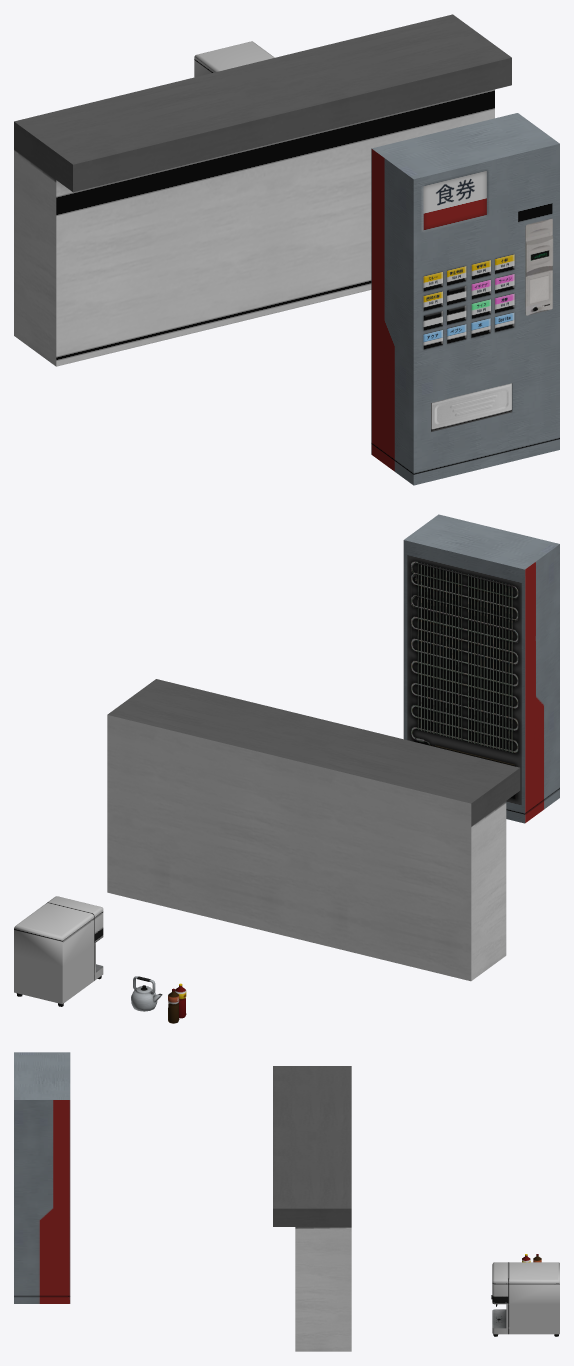
Rendered from prop_sch_canteen_furniture_1.fbx.
The picture shows the model from 3 angles, top to bottom: view 1: azimuth 30°, elevation 25°; view 2: azimuth 150°, elevation 25°; view 3: azimuth 270°, elevation 25°; orthographic projection. The views are drawn at different scales.
Visible parts, largest first — view 1: prop_sch_furniture_cn1_counter, prop_sch_furniture_cn1_vending, prop_sch_furniture_cn1_coffeem; view 2: prop_sch_furniture_cn1_counter, prop_sch_furniture_cn1_vending, prop_sch_furniture_cn1_coffeem, prop_sch_furniture_cn1_teko; view 3: prop_sch_furniture_cn1_counter, prop_sch_furniture_cn1_vending, prop_sch_furniture_cn1_coffeem.
Boxes of the visible parts, box(x1,y1,x2,y2) form: prop_sch_furniture_cn1_counter: box(14, 14, 511, 366); prop_sch_furniture_cn1_vending: box(371, 113, 559, 485); prop_sch_furniture_cn1_coffeem: box(194, 41, 274, 77); prop_sch_furniture_cn1_counter: box(107, 679, 520, 981); prop_sch_furniture_cn1_vending: box(403, 514, 559, 823); prop_sch_furniture_cn1_coffeem: box(14, 896, 103, 1006); prop_sch_furniture_cn1_teko: box(131, 976, 162, 1011); prop_sch_furniture_cn1_counter: box(273, 1066, 351, 1351); prop_sch_furniture_cn1_vending: box(14, 1052, 70, 1303); prop_sch_furniture_cn1_coffeem: box(491, 1262, 559, 1336).
Bounding box in the file's own units: 300 × 200 × 485.
